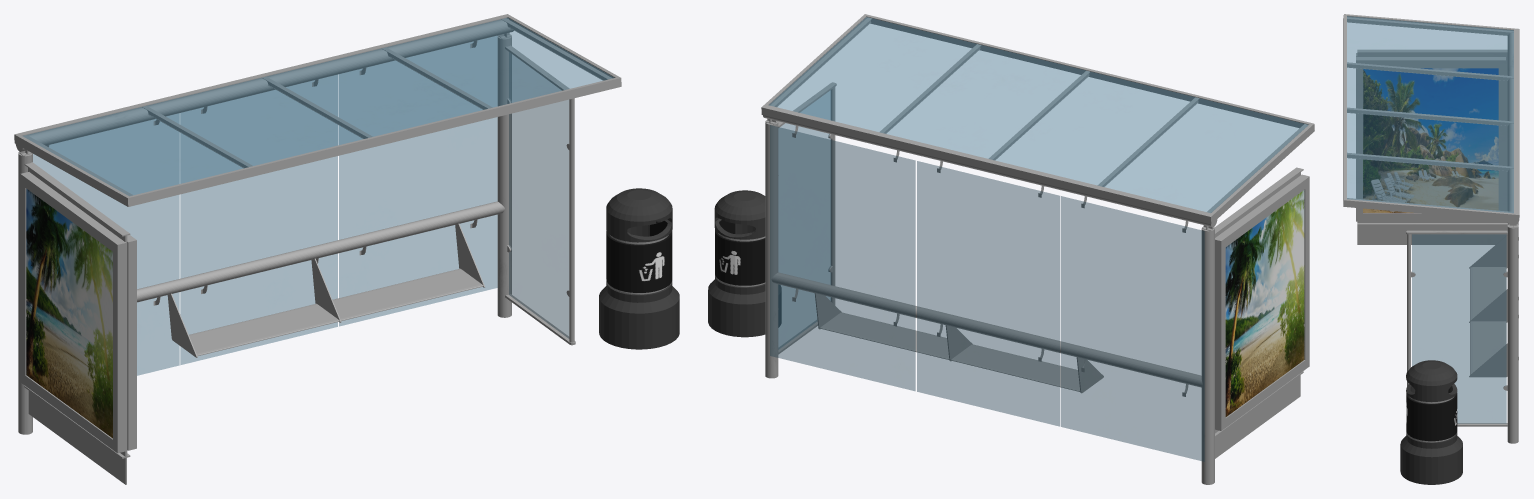
Rendered from bus_station.glb.
The picture shows the model from 3 angles, left to right: view 1: azimuth 30°, elevation 25°; view 2: azimuth 150°, elevation 25°; view 3: azimuth 270°, elevation 25°; orthographic projection. The views are drawn at different scales.
Parts seen in each view (by area): view 1: defaultMaterial.003, defaultMaterial.002, defaultMaterial; view 2: defaultMaterial.003, defaultMaterial.002, defaultMaterial; view 3: defaultMaterial.003, defaultMaterial.002, defaultMaterial.
Boxes of the visible parts, left/top/right/bottom form: defaultMaterial.003: left=23, top=18, right=614, bottom=375; defaultMaterial.002: left=14, top=14, right=621, bottom=484; defaultMaterial: left=599, top=188, right=679, bottom=349; defaultMaterial.003: left=769, top=17, right=1307, bottom=461; defaultMaterial.002: left=761, top=14, right=1314, bottom=484; defaultMaterial: left=708, top=190, right=781, bottom=337; defaultMaterial.003: left=1347, top=16, right=1513, bottom=423; defaultMaterial.002: left=1343, top=14, right=1519, bottom=443; defaultMaterial: left=1400, top=360, right=1462, bottom=484.
Bounding box in the file's own units: 2.44 × 1.21 × 0.7968.
Materials: 4 (4 with a texture image).
